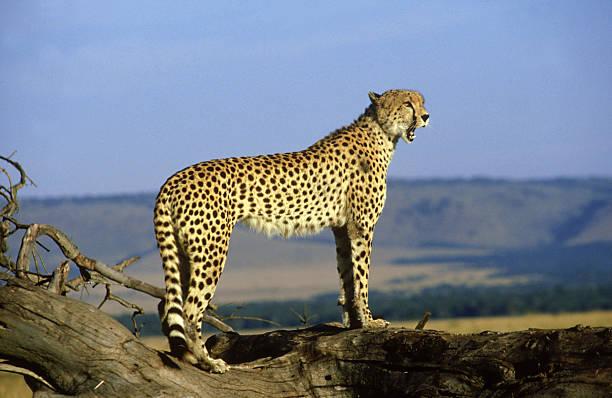cheetah: (363, 82, 440, 151)
